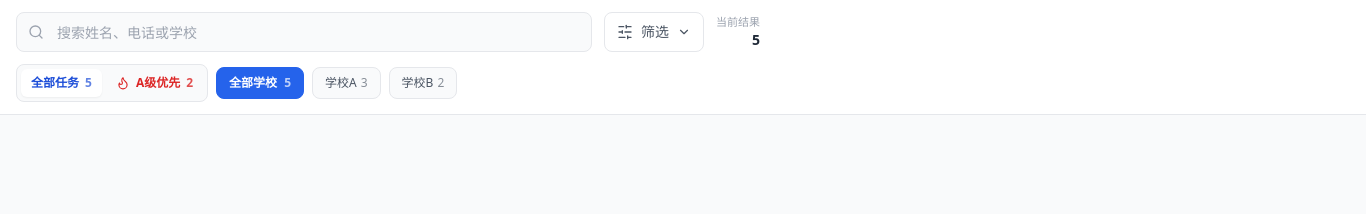
Test: FilterPanel › expands and collapses the advanced filter body
The width and height of the screenshot is (1366, 214).
Click the button "筛选".
click(654, 32)  # box [604,12,704,52]
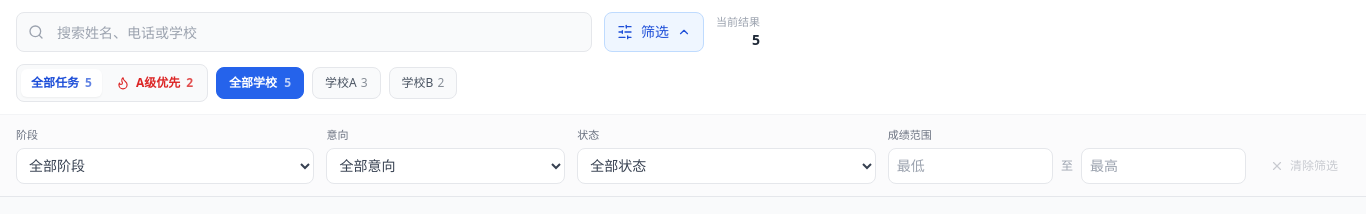
Expected: the dropdown named "按阶段筛选" is shown, [16,148,314,184]
Expected: the button "筛选" is expanded
Click the button "筛选".
click(654, 32)  # box [604,12,704,52]
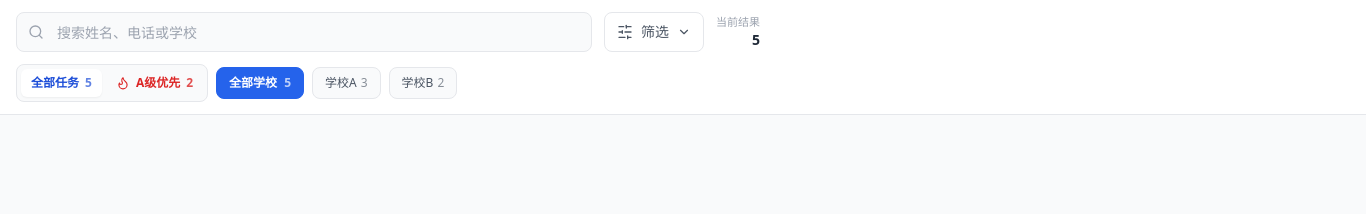
Expected: the dropdown labelled "按阶段筛选" is gone
